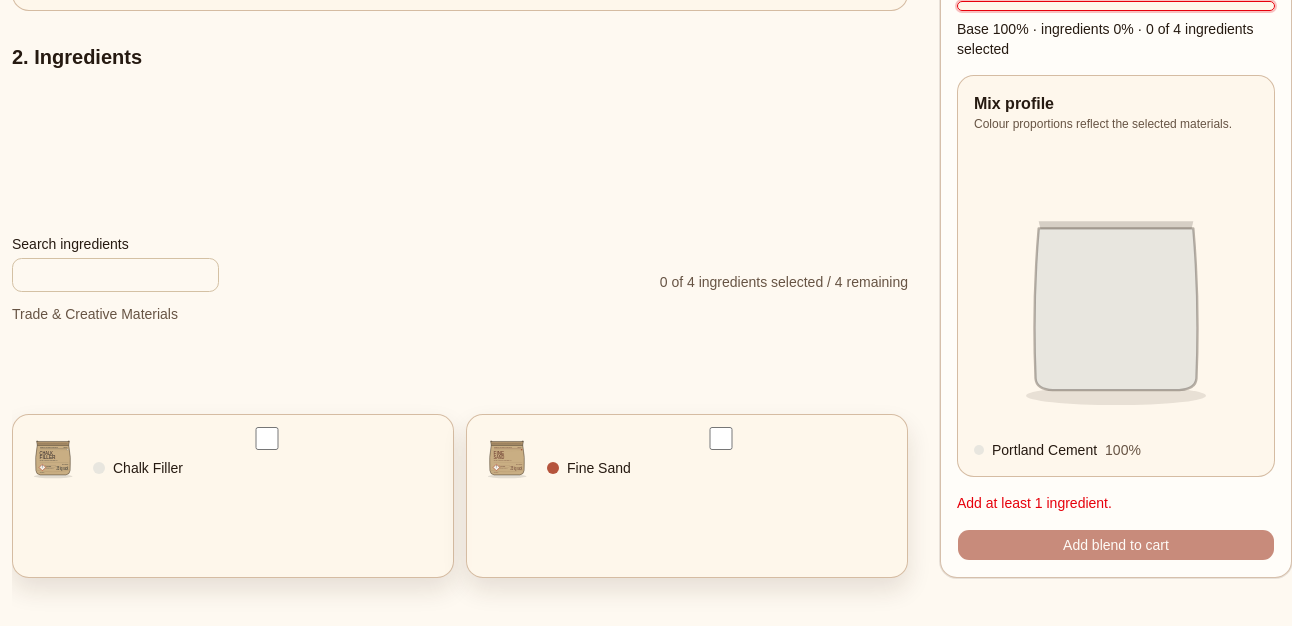
Test: CustomBlendPage › keeps the submit gate closed until the exact current draft has a server verdict
The width and height of the screenshot is (1292, 626).
(page scrolled)
Click the checkbox labelled "CHALK FILLER" at (267, 438), box [93,427,441,450]
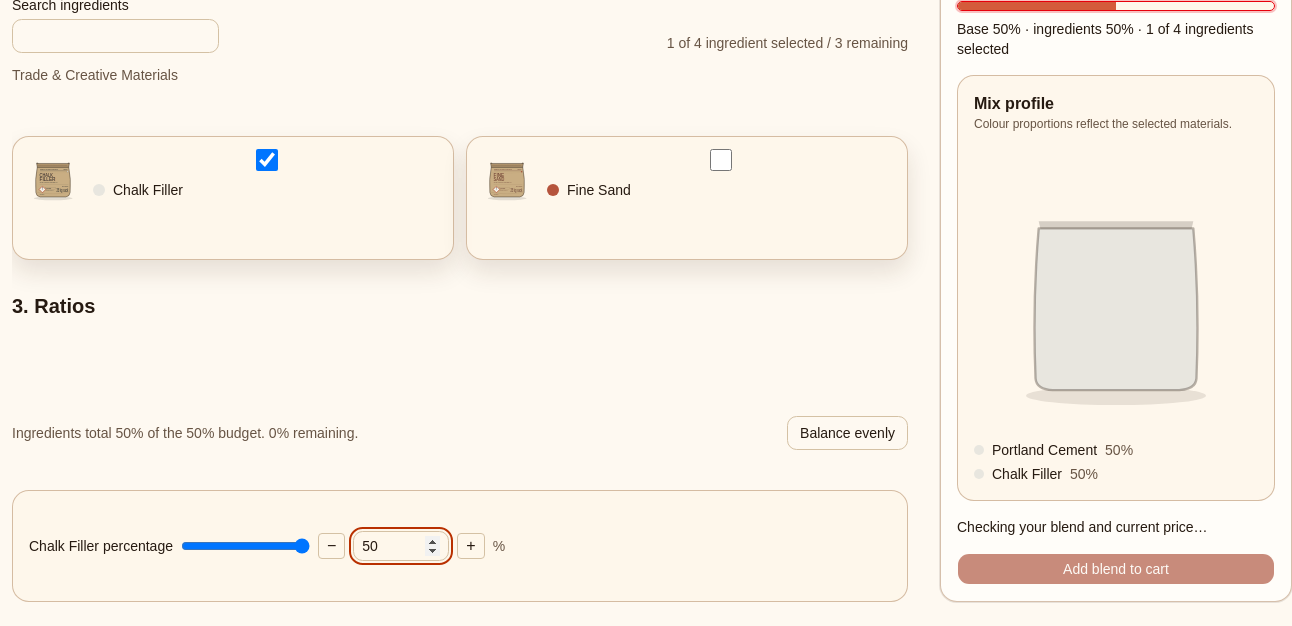
Expected: the button "Add blend to cart" is disabled, [957,553,1275,585]
Expected: the text "Checking your blend and current price…" is shown, [957,519,1208,535]
Replace the text in the number field labelled "Chalk Filler percentage" with "20" at (401, 546), box [353,531,449,561]
(page scrolled)
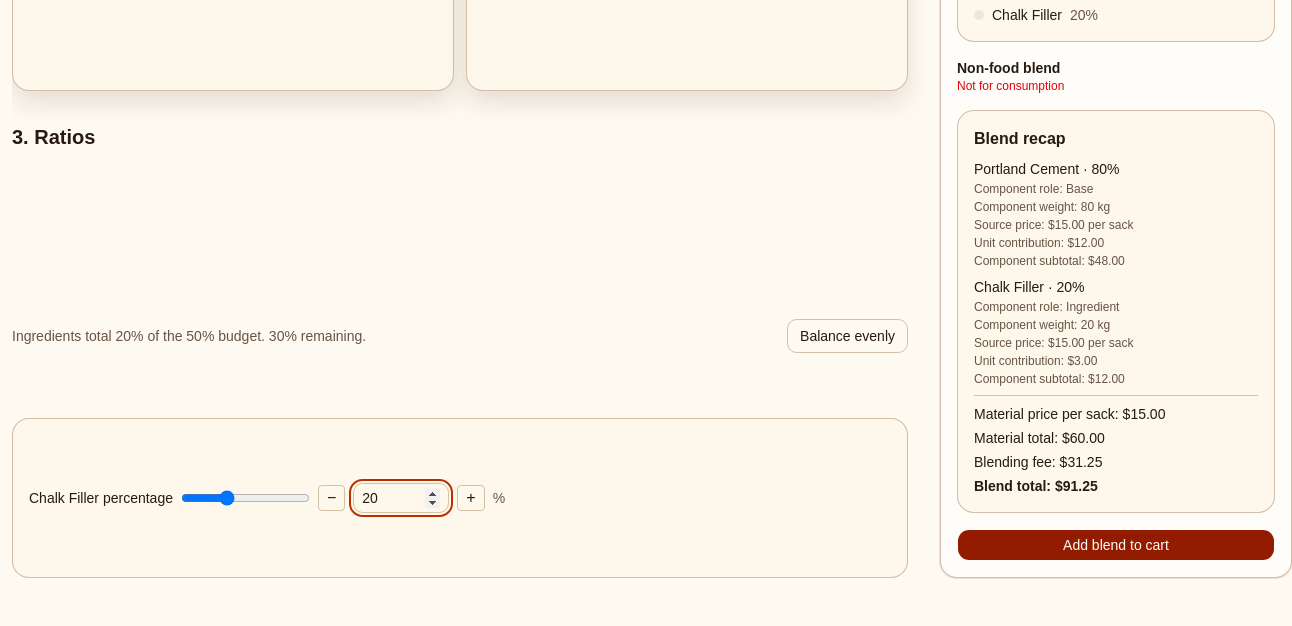
Expected: the button "Add blend to cart" is enabled, [957,529,1275,561]
Expected: the text "Non-food blend" is shown, [957,60,1060,76]
Expected: the text "Material total: $60.00" is shown, [974,430,1105,446]
